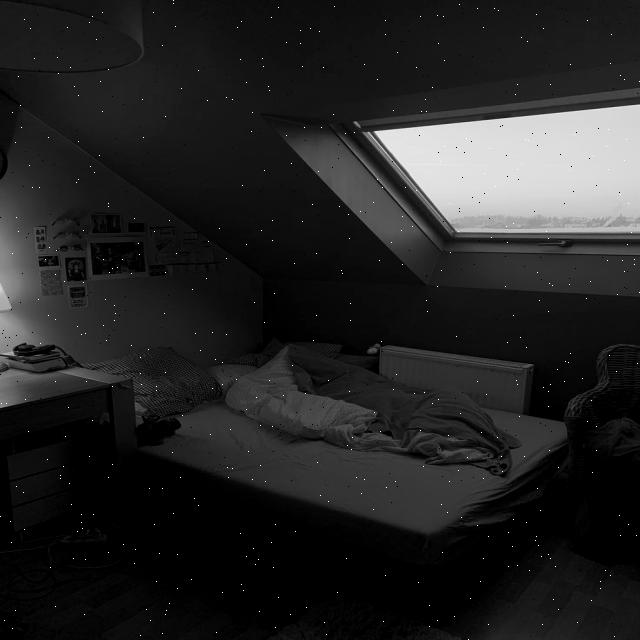bed: (58, 328, 577, 542)
